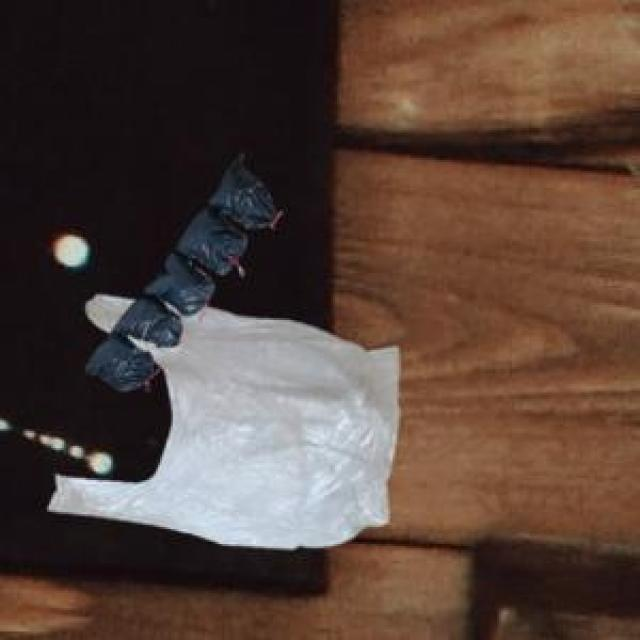miscellaneous trash: (81, 149, 271, 386)
